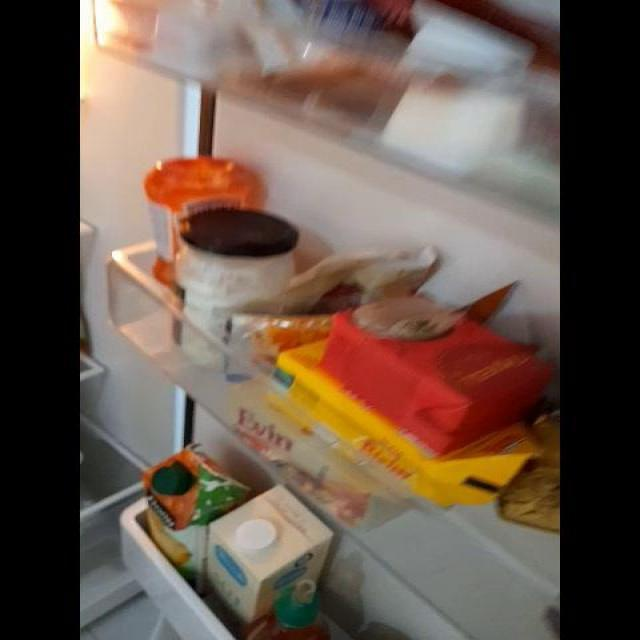butter: (245, 357, 503, 504)
juice: (147, 451, 209, 563)
milk: (209, 495, 303, 613)
sauce: (142, 159, 202, 287)
